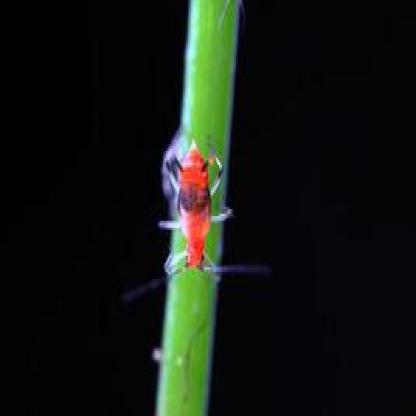aphid: (151, 132, 240, 296)
